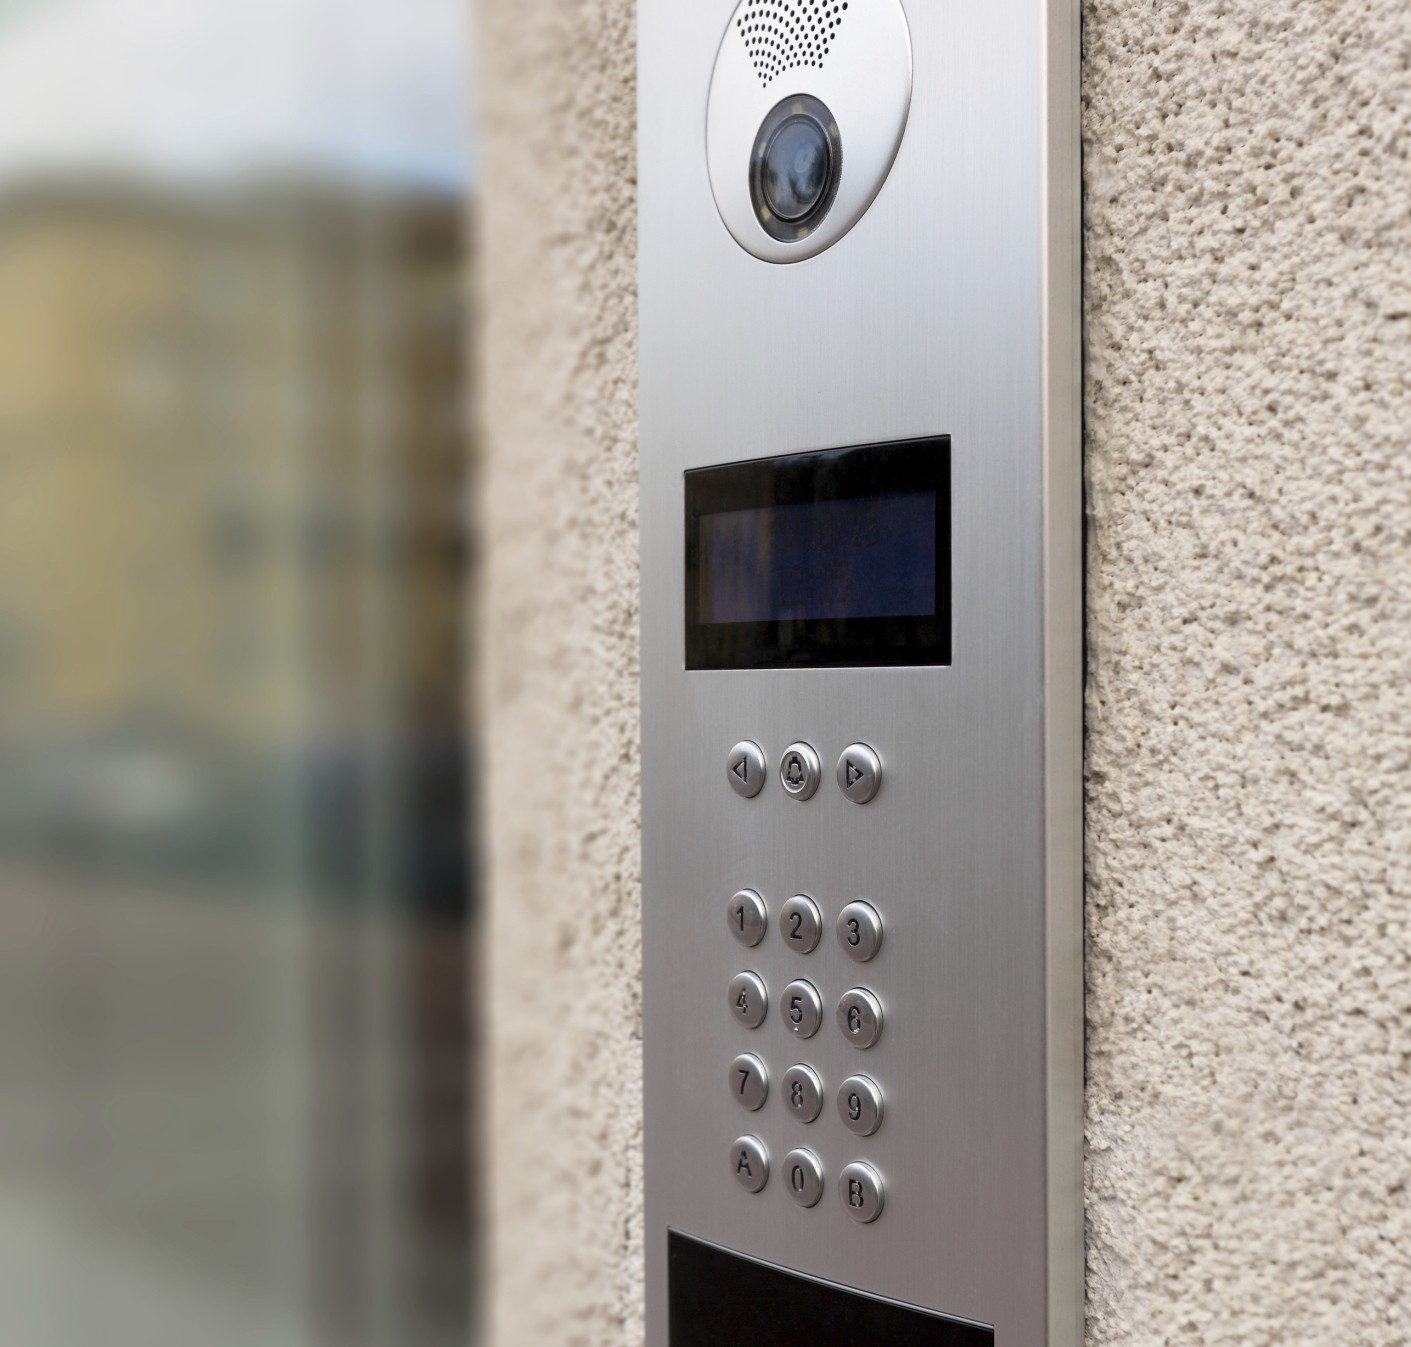digicode: (717, 728, 900, 1237)
